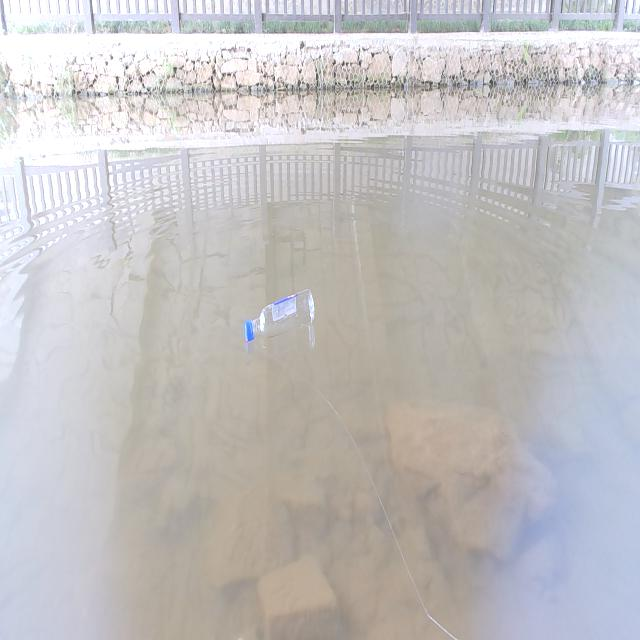bottle: (222, 272, 328, 360)
